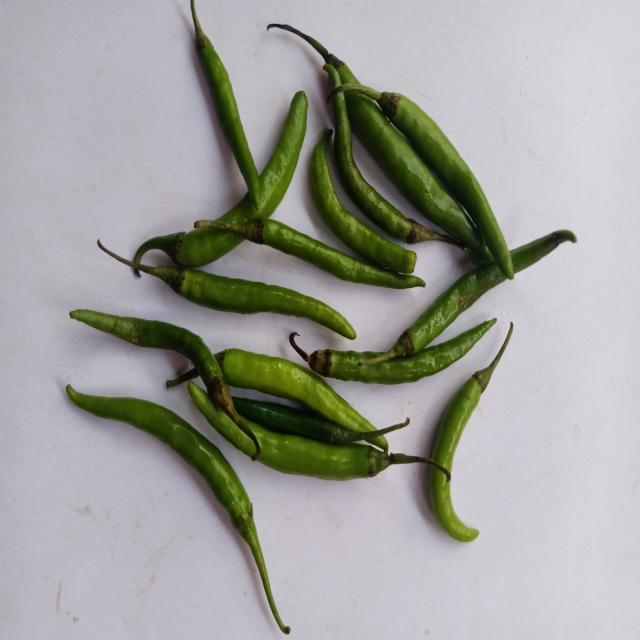Green Chilly: (65, 384, 290, 634), (377, 91, 515, 278), (190, 0, 260, 209), (221, 348, 377, 432), (178, 268, 356, 339), (432, 322, 514, 472), (262, 218, 425, 288), (430, 466, 479, 542), (249, 368, 249, 372)
